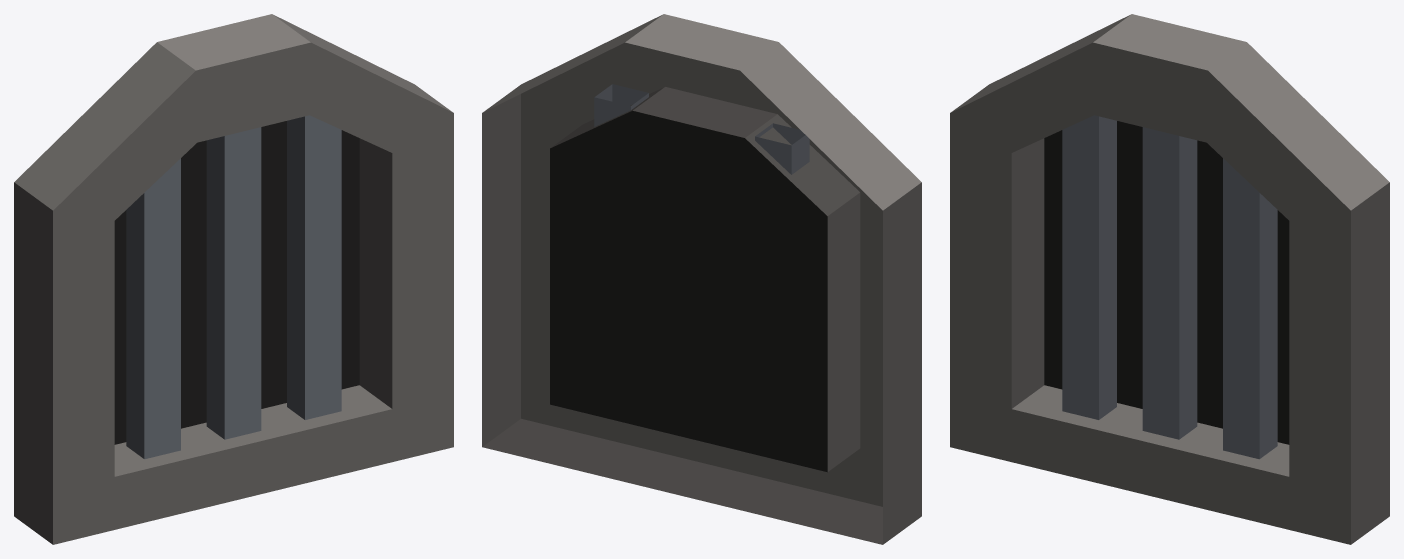
The model's file is SD_Prop_WallGrate_01.fbx.
The picture shows the model from 3 angles, left to right: view 1: azimuth 30°, elevation 25°; view 2: azimuth 150°, elevation 25°; view 3: azimuth 330°, elevation 25°; orthographic projection.
Visible parts, largest first — view 1: SD_Prop_WallGrate_01; view 2: SD_Prop_WallGrate_01; view 3: SD_Prop_WallGrate_01.
Boxes of the visible parts, x1,y1,x2,y2 form: SD_Prop_WallGrate_01: (14,14,453,544); SD_Prop_WallGrate_01: (482,14,921,544); SD_Prop_WallGrate_01: (950,14,1389,544).
Size of the model in its own units: 1.36 by 1.42 by 0.2285.
